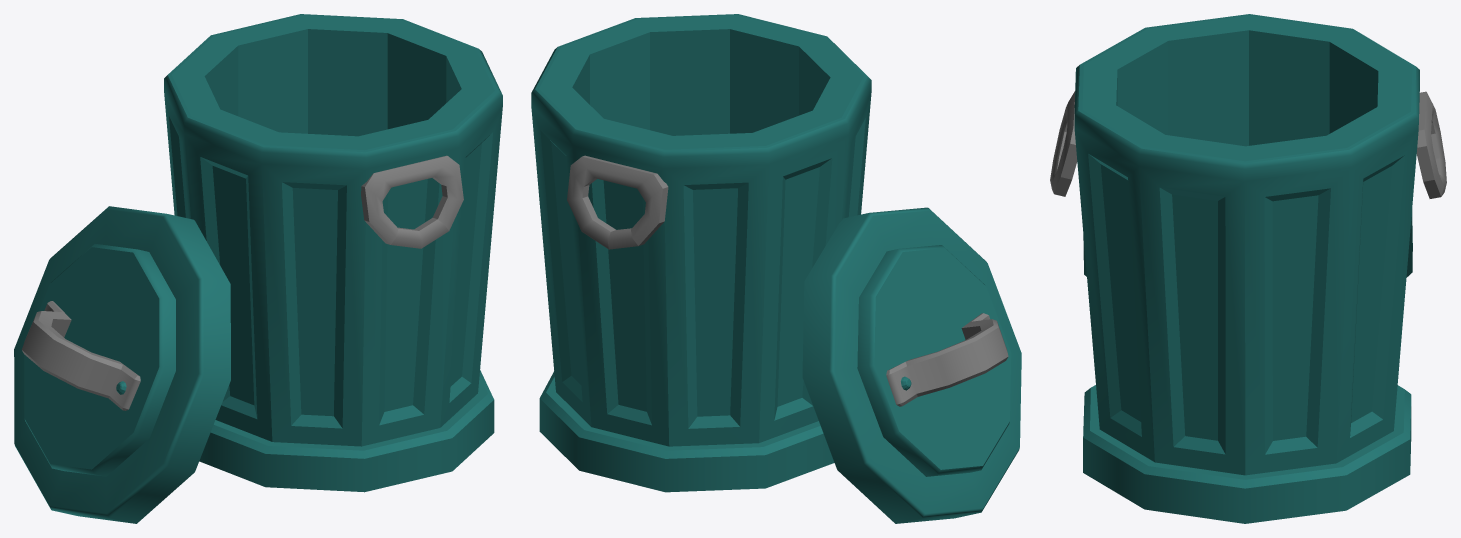
The model's file is SM_Bin2.fbx.
3 renders of one model, left to right at view 1: azimuth 30°, elevation 25°; view 2: azimuth 150°, elevation 25°; view 3: azimuth 270°, elevation 25°, orthographic. The views are drawn at different scales.
Visible parts, largest first — view 1: SM_Bin2; view 2: SM_Bin2; view 3: SM_Bin2.
Part boxes in pixels (x1,y1,x2,y2): SM_Bin2: (14, 14, 502, 523); SM_Bin2: (531, 14, 1021, 523); SM_Bin2: (1050, 14, 1446, 523).
Bounding box in the file's own units: 133 × 106 × 96.51.
